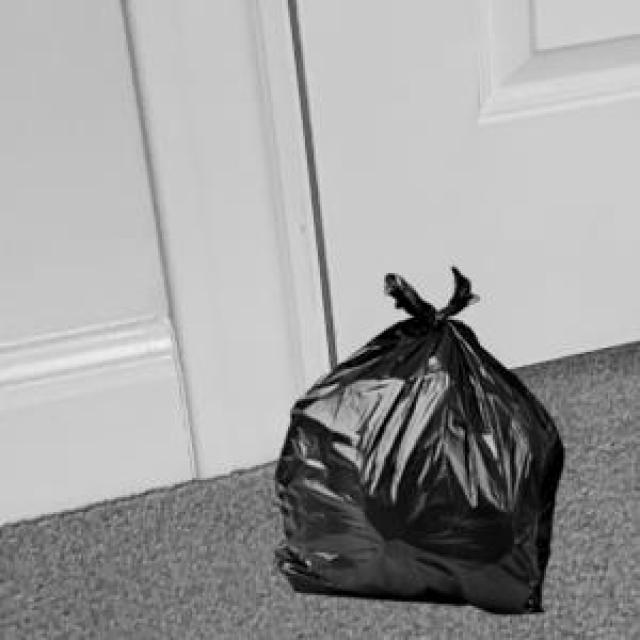miscellaneous trash: (271, 264, 559, 610)
